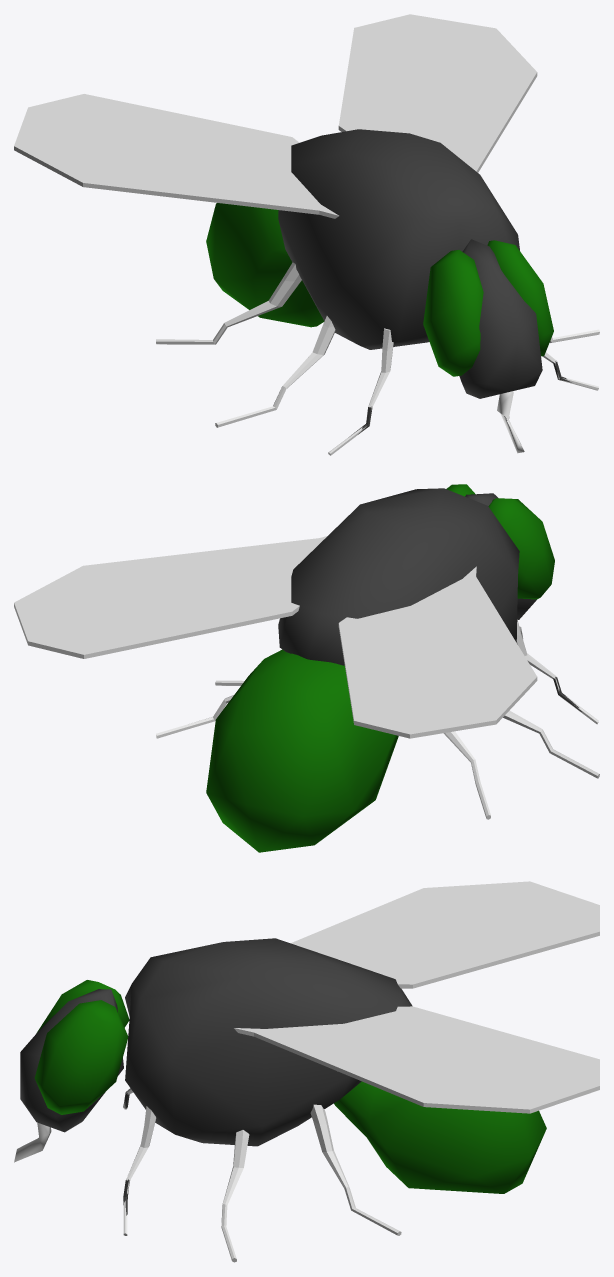
Rendered from fly.fbx.
3 renders of one model, top to bottom at view 1: azimuth 30°, elevation 25°; view 2: azimuth 150°, elevation 25°; view 3: azimuth 270°, elevation 25°, orthographic. The views are drawn at different scales.
Parts seen in each view (by area): view 1: Fly.001; view 2: Fly.001; view 3: Fly.001.
Part boxes in pixels (left/top/right/bottom): Fly.001: left=14, top=14, right=599, bottom=455; Fly.001: left=14, top=484, right=599, bottom=852; Fly.001: left=14, top=881, right=599, bottom=1262.
Bounding box in the file's own units: 0.0146 × 0.00709 × 0.0158.
